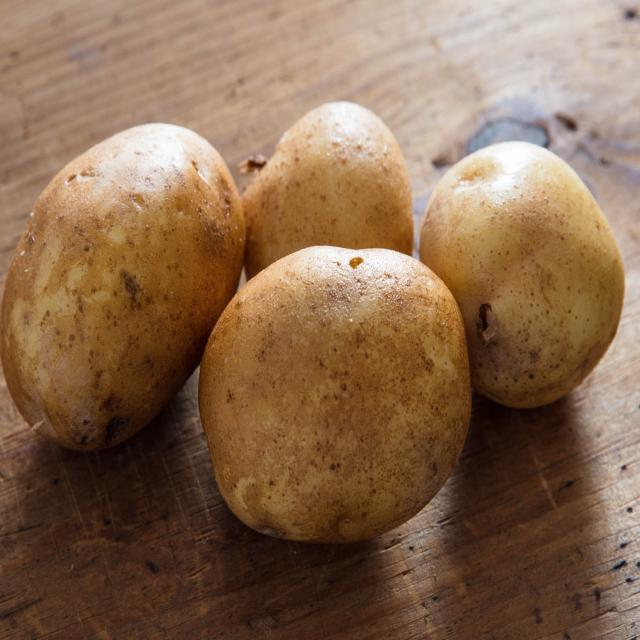Potato: (199, 247, 471, 542), (0, 123, 245, 450), (420, 142, 625, 407), (242, 102, 414, 278)
